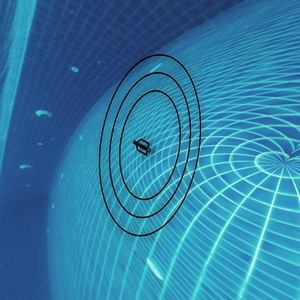circle: (88, 49, 210, 247)
submarine: (130, 137, 156, 156)
